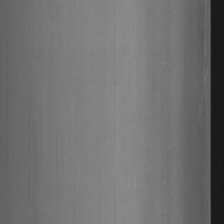silk_spot: (190, 45, 208, 127)
